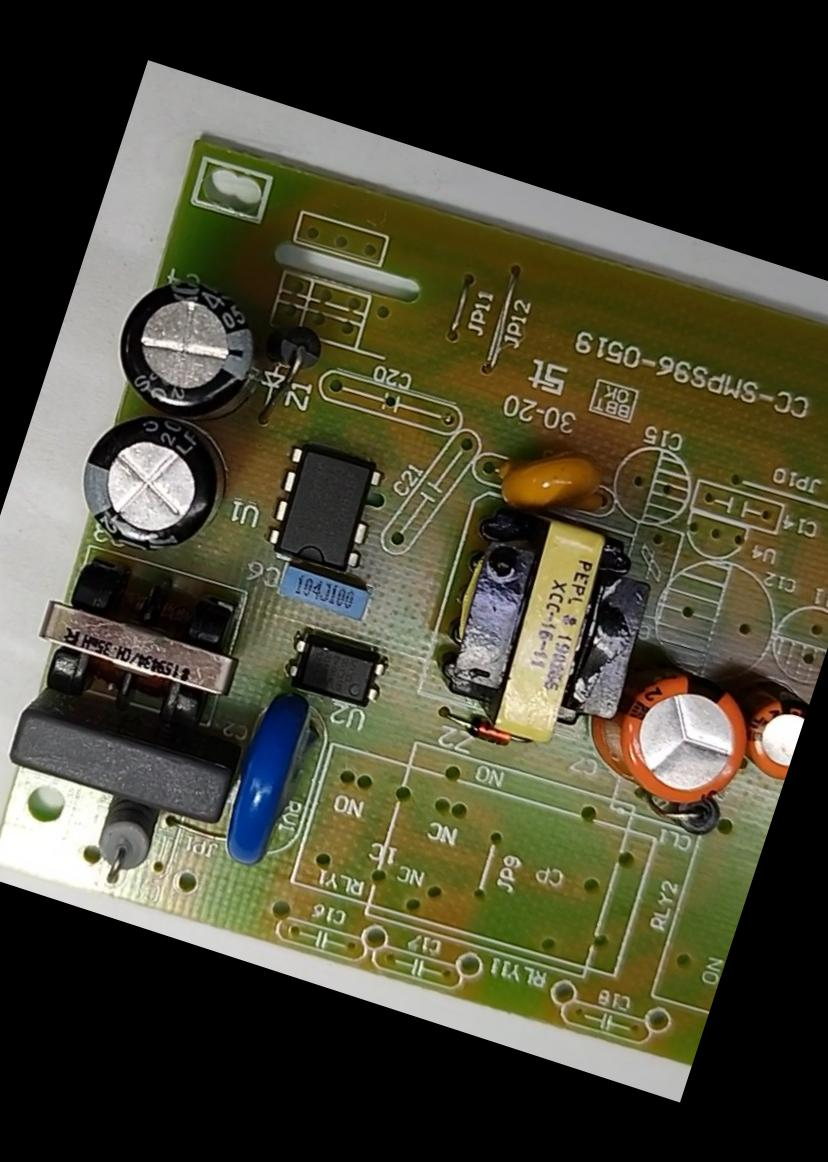Cap1: (570, 634, 772, 832)
Cap2: (726, 672, 813, 784)
Cap3: (60, 392, 244, 572)
Cap4: (90, 252, 278, 445)
MOSFET: (250, 426, 400, 589)
Mov: (200, 675, 332, 879)
Resistor: (74, 783, 177, 906)
Transformer: (408, 473, 682, 774), (18, 521, 272, 763)
